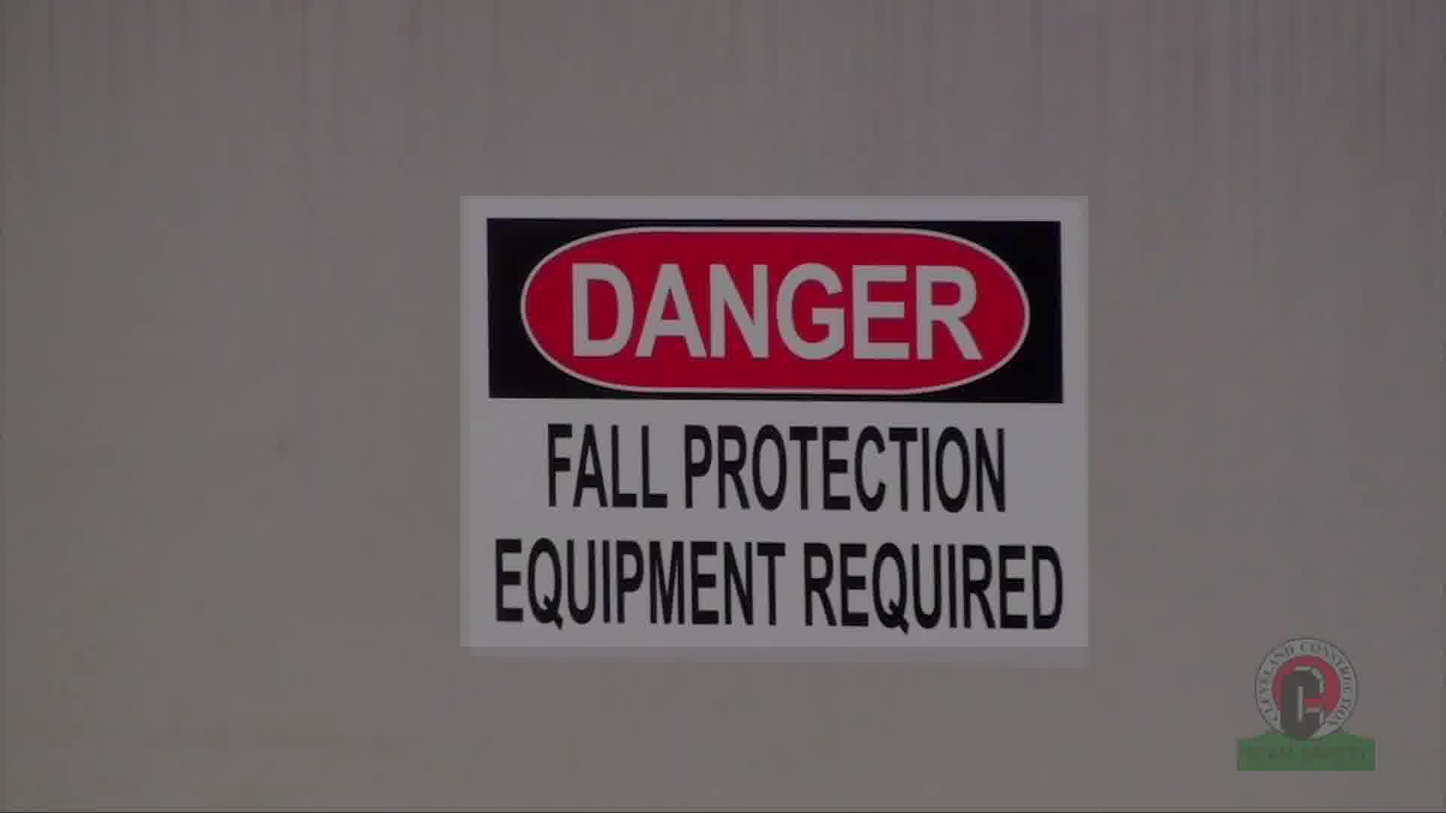safety_signage: (460, 196, 1088, 647)
